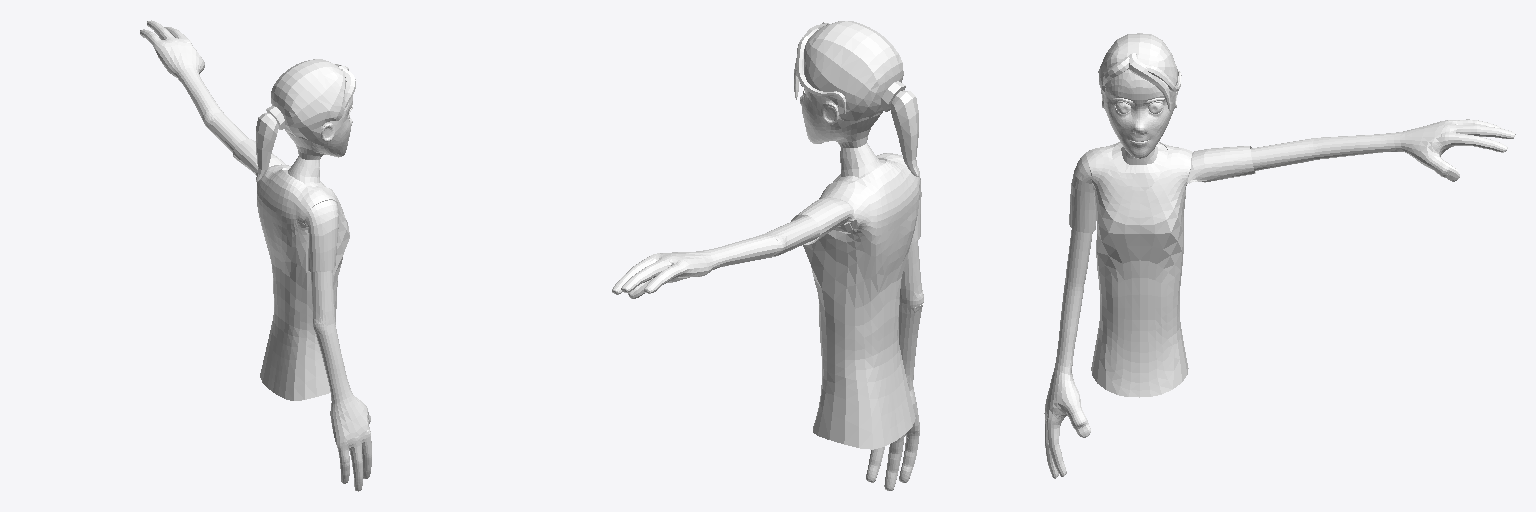
URDF robot description (human_torso):
<?xml version="1.0" ?>
<!-- =================================================================================== -->
<!-- |    This document was autogenerated by xacro from human_torso.xacro              | -->
<!-- |    EDITING THIS FILE BY HAND IS NOT RECOMMENDED                                 | -->
<!-- =================================================================================== -->
<!--
Parameters:
- offsets
    - neck to shoulder
    - shoulder to elbow
    - elbow to wrist

- joint limits (source: https://design.tutsplus.com/articles/human-anatomy-fundamentals-flexibility-and-joint-limitations-vector-25401)
    - shoulder
        - abduction 180
        - adduction -45
        - horizontal flexion 130
        - horizontal extension -45
        - vertical flexion 180
        - vertical extension -60
    - elbow
        - flexion -150
        - extension 0
        - supination 180
        - pronation -90

    - wrist
        - extension 70
        - flexion 90
        - radial 20
        - ulnar 50

-->
<robot name="human_torso" xmlns:xacro="http://www.ros.org/wiki/xacro">
  <material name="white">
    <color rgba="1.0 1.0 1.0 1.0"/>
  </material>
  <link name="base_link">
    <inertial>
      <mass value="0.01"/>
      <origin rpy="0 0 0" xyz="0 0 0"/>
      <inertia ixx="0.001" ixy="0" ixz="0" iyy="0.001" iyz="0" izz="0.001"/>
    </inertial>
  </link>
  <link name="torso_pan">
    <inertial>
      <mass value="0.01"/>
      <origin rpy="0 0 0" xyz="0 0 0"/>
      <inertia ixx="0.001" ixy="0" ixz="0" iyy="0.001" iyz="0" izz="0.001"/>
    </inertial>
  </link>
  <link name="torso">
    <visual>
      <geometry>
        <mesh filename=".//torso.obj"/>
      </geometry>
      <origin rpy="0 0 0" xyz="0 0 0"/>
      <material name="white"/>
    </visual>
    <collision>
      <geometry>
        <box size="0.2 0.22 0.59"/>
      </geometry>
      <origin rpy="0 0 0" xyz="0 0 0.295"/>
    </collision>
    <inertial>
      <mass value="40.0"/>
      <origin rpy="0 0 0" xyz="0 0 0"/>
      <inertia ixx="4.0" ixy="0" ixz="0" iyy="4.0" iyz="0" izz="4.0"/>
    </inertial>
  </link>
  <joint name="torso_pan_joint" type="revolute">
    <axis xyz="0 0 1"/>
    <limit effort="10000.0" lower="-1.22173" upper="1.22173" velocity="1.57"/>
    <origin rpy="0 0 0" xyz="0 0 0"/>
    <parent link="base_link"/>
    <child link="torso_pan"/>
  </joint>
  <joint name="torso_tilt_joint" type="revolute">
    <axis xyz="0 1 0"/>
    <limit effort="10000.0" lower="-0.32173" upper="0.32173" velocity="1.57"/>
    <origin rpy="0 0 0" xyz="0 0 0"/>
    <parent link="torso_pan"/>
    <child link="torso"/>
  </joint>
  <link name="l_shoulder_abduction_adduction">
    <inertial>
      <mass value="0.01"/>
      <origin rpy="0 0 0" xyz="0 0 0"/>
      <inertia ixx="0.001" ixy="0" ixz="0" iyy="0.001" iyz="0" izz="0.001"/>
    </inertial>
  </link>
  <link name="l_shoulder_horizontal_flexion_extension">
    <inertial>
      <mass value="0.01"/>
      <origin rpy="0 0 0" xyz="0 0 0"/>
      <inertia ixx="0.001" ixy="0" ixz="0" iyy="0.001" iyz="0" izz="0.001"/>
    </inertial>
  </link>
  <link name="l_shoulder_vertical_flexion_extension">
    <visual>
      <geometry>
        <mesh filename=".//l_arm.obj"/>
      </geometry>
      <origin rpy="0 0 0" xyz="0 0 0"/>
      <material name="white"/>
    </visual>
    <collision>
      <geometry>
        <box size="0.1 0.07 0.33"/>
      </geometry>
      <origin rpy="0.1 0 0" xyz="0 0.015 -0.135"/>
    </collision>
    <inertial>
      <mass value="3.5"/>
      <origin rpy="0 0 0" xyz="0 0 0"/>
      <inertia ixx="0.3" ixy="0" ixz="0" iyy="0.3" iyz="0" izz="0.3"/>
    </inertial>
  </link>
  <link name="l_elbow_flexion_extension">
    <inertial>
      <mass value="0.01"/>
      <origin rpy="0 0 0" xyz="0 0 0"/>
      <inertia ixx="0.001" ixy="0" ixz="0" iyy="0.001" iyz="0" izz="0.001"/>
    </inertial>
  </link>
  <link name="l_elbow_pronation_supination">
    <visual>
      <geometry>
        <mesh filename=".//l_forearm.obj"/>
      </geometry>
      <origin rpy="0 0 0" xyz="0 0 0"/>
      <material name="white"/>
    </visual>
    <collision>
      <geometry>
        <box size="0.07 0.07 0.2"/>
      </geometry>
      <origin rpy="0.2 -0.2 0" xyz="0.02 0.015 -0.1"/>
    </collision>
    <inertial>
      <mass value="2.5"/>
      <origin rpy="0 0 0" xyz="0 0 0"/>
      <inertia ixx="0.2" ixy="0" ixz="0" iyy="0.2" iyz="0" izz="0.2"/>
    </inertial>
  </link>
  <link name="l_wrist_flexion_extension">
    <inertial>
      <mass value="0.01"/>
      <origin rpy="0 0 0" xyz="0 0 0"/>
      <inertia ixx="0.001" ixy="0" ixz="0" iyy="0.001" iyz="0" izz="0.001"/>
    </inertial>
  </link>
  <link name="l_wrist_radial_ulnar">
    <visual>
      <geometry>
        <mesh filename=".//l_hand.obj"/>
      </geometry>
      <origin rpy="0 0 0" xyz="0 0 0"/>
      <material name="white"/>
    </visual>
    <collision>
      <geometry>
        <mesh filename=".//l_hand.obj"/>
        <!--<box size="${palm_width} ${palm_depth} ${palm_height}"/>-->
      </geometry>
      <!--origin xyz="0.025 ${reflect*0.0} ${-palm_height/2 + 0.02}" rpy="0 0 0"/-->
      <origin rpy="0 0 0" xyz="0 0 0"/>
    </collision>
    <inertial>
      <mass value="1.5"/>
      <origin rpy="0 0 0" xyz="0 0 0"/>
      <inertia ixx="0.1" ixy="0" ixz="0" iyy="0.1" iyz="0" izz="0.1"/>
    </inertial>
  </link>
  <joint name="l_shoulder_abduction_adduction_joint" type="revolute">
    <axis xyz="1 0 0"/>
    <limit effort="1000.0" lower="0.1" upper="3.1415" velocity="2.5"/>
    <origin rpy="0 0 0" xyz=" 0 0.10988 0.4938"/>
    <parent link="torso"/>
    <child link="l_shoulder_abduction_adduction"/>
  </joint>
  <joint name="l_shoulder_horizontal_flexion_extension_joint" type="revolute">
    <axis xyz="0 0 -1"/>
    <limit effort="1000.0" lower="-0.78539" upper="2.26892" velocity="2.5"/>
    <origin rpy="0 0 0" xyz="0 0 0"/>
    <parent link="l_shoulder_abduction_adduction"/>
    <child link="l_shoulder_horizontal_flexion_extension"/>
  </joint>
  <joint name="l_shoulder_vertical_flexion_extension_joint" type="revolute">
    <axis xyz="0 -1 0"/>
    <limit effort="1000.0" lower="-1.04719" upper="3.1415" velocity="2.5"/>
    <origin rpy="0 0 0" xyz="0 0 0"/>
    <parent link="l_shoulder_horizontal_flexion_extension"/>
    <child link="l_shoulder_vertical_flexion_extension"/>
  </joint>
  <joint name="l_elbow_flexion_extension_joint" type="revolute">
    <axis xyz="0 1 0"/>
    <limit effort="1000.0" lower="-2.61799" upper="0" velocity="2.5"/>
    <origin rpy="0 0 0" xyz="-0.01223 0.03506 -0.283379"/>
    <parent link="l_shoulder_vertical_flexion_extension"/>
    <child link="l_elbow_flexion_extension"/>
  </joint>
  <joint name="l_elbow_pronation_supination_joint" type="revolute">
    <axis xyz="0 0 -1"/>
    <limit effort="1000.0" lower="-3.1415" upper="1.57079" velocity="2.5"/>
    <origin rpy="0 0 0" xyz="0 0 0"/>
    <parent link="l_elbow_flexion_extension"/>
    <child link="l_elbow_pronation_supination"/>
  </joint>
  <joint name="l_wrist_flexion_extension_joint" type="revolute">
    <axis xyz="0 -1 0"/>
    <limit effort="1000.0" lower="-1.57079" upper="1.22173" velocity="2.5"/>
    <origin rpy="0 0 0" xyz="0.03606 0.02363 -0.19094"/>
    <parent link="l_elbow_pronation_supination"/>
    <child link="l_wrist_flexion_extension"/>
  </joint>
  <joint name="l_wrist_radial_ulnar_joint" type="revolute">
    <axis xyz="1 0 0"/>
    <limit effort="1000.0" lower="-0.34906" upper="0.87266" velocity="2.5"/>
    <origin rpy="0 0 0" xyz="0 0 0"/>
    <parent link="l_wrist_flexion_extension"/>
    <child link="l_wrist_radial_ulnar"/>
  </joint>
  <link name="l_tip">
    <visual>
      <geometry>
        <box size="0.001 0.01 0.001"/>
      </geometry>
      <origin rpy="0 0 0" xyz="0 0 0"/>
      <material name="white"/>
    </visual>
    <collision>
      <geometry>
        <box size="0.001 0.01 0.001"/>
      </geometry>
      <origin rpy="0 0 0" xyz="0 0 0"/>
    </collision>
    <inertial>
      <mass value="0.001"/>
      <origin rpy="0 0 0" xyz="0 0 0"/>
      <inertia ixx="0.0001" ixy="0" ixz="0" iyy="0.0001" iyz="0" izz="0.0001"/>
    </inertial>
  </link>
  <joint name="l_tip_joint" type="fixed">
    <origin rpy="0 3.1415 0" xyz="0.03 0.015 -0.23"/>
    <parent link="l_wrist_radial_ulnar"/>
    <child link="l_tip"/>
  </joint>
  <link name="r_shoulder_abduction_adduction">
    <inertial>
      <mass value="0.01"/>
      <origin rpy="0 0 0" xyz="0 0 0"/>
      <inertia ixx="0.001" ixy="0" ixz="0" iyy="0.001" iyz="0" izz="0.001"/>
    </inertial>
  </link>
  <link name="r_shoulder_horizontal_flexion_extension">
    <inertial>
      <mass value="0.01"/>
      <origin rpy="0 0 0" xyz="0 0 0"/>
      <inertia ixx="0.001" ixy="0" ixz="0" iyy="0.001" iyz="0" izz="0.001"/>
    </inertial>
  </link>
  <link name="r_shoulder_vertical_flexion_extension">
    <visual>
      <geometry>
        <mesh filename=".//r_arm.obj"/>
      </geometry>
      <origin rpy="0 0 0" xyz="0 0 0"/>
      <material name="white"/>
    </visual>
    <collision>
      <geometry>
        <box size="0.1 0.07 0.33"/>
      </geometry>
      <origin rpy="-0.1 0 0" xyz="0 -0.015 -0.135"/>
    </collision>
    <inertial>
      <mass value="3.5"/>
      <origin rpy="0 0 0" xyz="0 0 0"/>
      <inertia ixx="0.3" ixy="0" ixz="0" iyy="0.3" iyz="0" izz="0.3"/>
    </inertial>
  </link>
  <link name="r_elbow_flexion_extension">
    <inertial>
      <mass value="0.01"/>
      <origin rpy="0 0 0" xyz="0 0 0"/>
      <inertia ixx="0.001" ixy="0" ixz="0" iyy="0.001" iyz="0" izz="0.001"/>
    </inertial>
  </link>
  <link name="r_elbow_pronation_supination">
    <visual>
      <geometry>
        <mesh filename=".//r_forearm.obj"/>
      </geometry>
      <origin rpy="0 0 0" xyz="0 0 0"/>
      <material name="white"/>
    </visual>
    <collision>
      <geometry>
        <box size="0.07 0.07 0.2"/>
      </geometry>
      <origin rpy="-0.2 -0.2 0" xyz="0.02 -0.015 -0.1"/>
    </collision>
    <inertial>
      <mass value="2.5"/>
      <origin rpy="0 0 0" xyz="0 0 0"/>
      <inertia ixx="0.2" ixy="0" ixz="0" iyy="0.2" iyz="0" izz="0.2"/>
    </inertial>
  </link>
  <link name="r_wrist_flexion_extension">
    <inertial>
      <mass value="0.01"/>
      <origin rpy="0 0 0" xyz="0 0 0"/>
      <inertia ixx="0.001" ixy="0" ixz="0" iyy="0.001" iyz="0" izz="0.001"/>
    </inertial>
  </link>
  <link name="r_wrist_radial_ulnar">
    <visual>
      <geometry>
        <mesh filename=".//r_hand.obj"/>
      </geometry>
      <origin rpy="0 0 0" xyz="0 0 0"/>
      <material name="white"/>
    </visual>
    <collision>
      <geometry>
        <mesh filename=".//r_hand.obj"/>
        <!--<box size="${palm_width} ${palm_depth} ${palm_height}"/>-->
      </geometry>
      <!--origin xyz="0.025 ${reflect*0.0} ${-palm_height/2 + 0.02}" rpy="0 0 0"/-->
      <origin rpy="0 0 0" xyz="0 0 0"/>
    </collision>
    <inertial>
      <mass value="1.5"/>
      <origin rpy="0 0 0" xyz="0 0 0"/>
      <inertia ixx="0.1" ixy="0" ixz="0" iyy="0.1" iyz="0" izz="0.1"/>
    </inertial>
  </link>
  <joint name="r_shoulder_abduction_adduction_joint" type="fixed">
    <axis xyz="-1 0 0"/>
    <limit effort="1000.0" lower="0.1" upper="3.1415" velocity="2.5"/>
    <origin rpy="0 0 0" xyz=" -0.00304 -0.10786 0.49489"/>
    <parent link="torso"/>
    <child link="r_shoulder_abduction_adduction"/>
  </joint>
  <joint name="r_shoulder_horizontal_flexion_extension_joint" type="fixed">
    <axis xyz="0 0 1"/>
    <limit effort="1000.0" lower="-0.78539" upper="2.26892" velocity="2.5"/>
    <origin rpy="0 0 0" xyz="0 0 0"/>
    <parent link="r_shoulder_abduction_adduction"/>
    <child link="r_shoulder_horizontal_flexion_extension"/>
  </joint>
  <joint name="r_shoulder_vertical_flexion_extension_joint" type="fixed">
    <axis xyz="0 -1 0"/>
    <limit effort="1000.0" lower="-1.04719" upper="3.1415" velocity="2.5"/>
    <origin rpy="0 0 0" xyz="0 0 0"/>
    <parent link="r_shoulder_horizontal_flexion_extension"/>
    <child link="r_shoulder_vertical_flexion_extension"/>
  </joint>
  <joint name="r_elbow_flexion_extension_joint" type="fixed">
    <axis xyz="0 1 0"/>
    <limit effort="1000.0" lower="-2.61799" upper="0" velocity="2.5"/>
    <origin rpy="0 0 0" xyz="-0.01223 -0.03506 -0.283379"/>
    <parent link="r_shoulder_vertical_flexion_extension"/>
    <child link="r_elbow_flexion_extension"/>
  </joint>
  <joint name="r_elbow_pronation_supination_joint" type="fixed">
    <axis xyz="0 0 -1"/>
    <limit effort="1000.0" lower="-3.1415" upper="1.57079" velocity="2.5"/>
    <origin rpy="0 0 0" xyz="0 0 0"/>
    <parent link="r_elbow_flexion_extension"/>
    <child link="r_elbow_pronation_supination"/>
  </joint>
  <joint name="r_wrist_flexion_extension_joint" type="fixed">
    <axis xyz="0 -1 0"/>
    <limit effort="1000.0" lower="-1.57079" upper="1.22173" velocity="2.5"/>
    <origin rpy="0 0 0" xyz="0.03606 -0.02363 -0.19094"/>
    <parent link="r_elbow_pronation_supination"/>
    <child link="r_wrist_flexion_extension"/>
  </joint>
  <joint name="r_wrist_radial_ulnar_joint" type="fixed">
    <axis xyz="-1 0 0"/>
    <limit effort="1000.0" lower="-0.34906" upper="0.87266" velocity="2.5"/>
    <origin rpy="0 0 0" xyz="0 0 0"/>
    <parent link="r_wrist_flexion_extension"/>
    <child link="r_wrist_radial_ulnar"/>
  </joint>
  <link name="r_tip">
    <visual>
      <geometry>
        <box size="0.001 0.01 0.001"/>
      </geometry>
      <origin rpy="0 0 0" xyz="0 0 0"/>
      <material name="white"/>
    </visual>
    <collision>
      <geometry>
        <box size="0.001 0.01 0.001"/>
      </geometry>
      <origin rpy="0 0 0" xyz="0 0 0"/>
    </collision>
    <inertial>
      <mass value="0.001"/>
      <origin rpy="0 0 0" xyz="0 0 0"/>
      <inertia ixx="0.0001" ixy="0" ixz="0" iyy="0.0001" iyz="0" izz="0.0001"/>
    </inertial>
  </link>
  <joint name="r_tip_joint" type="fixed">
    <origin rpy="0 -3.1415 0" xyz="0.03 -0.015 -0.23"/>
    <parent link="r_wrist_radial_ulnar"/>
    <child link="r_tip"/>
  </joint>
  <link name="head_head_roll">
    <visual>
      <geometry>
        <mesh filename=".//head.obj"/>
      </geometry>
      <origin rpy="0 0 0" xyz="0 0 0"/>
      <material name="white"/>
    </visual>
    <collision>
      <geometry>
        <box size="0.32 0.27 0.4"/>
      </geometry>
      <origin rpy="0 0 0" xyz="0.03 0 0.18"/>
    </collision>
    <inertial>
      <mass value="5.0"/>
      <origin rpy="0 0 0" xyz="0 0 0"/>
      <inertia ixx="0.5" ixy="0" ixz="0" iyy="0.5" iyz="0" izz="0.5"/>
    </inertial>
  </link>
  <link name="head_head_tilt">
    <inertial>
      <mass value="0.01"/>
      <origin rpy="0 0 0" xyz="0 0 0"/>
      <inertia ixx="0.001" ixy="0" ixz="0" iyy="0.001" iyz="0" izz="0.001"/>
    </inertial>
  </link>
  <link name="head_head_pan">
    <inertial>
      <mass value="0.01"/>
      <origin rpy="0 0 0" xyz="0 0 0"/>
      <inertia ixx="0.001" ixy="0" ixz="0" iyy="0.001" iyz="0" izz="0.001"/>
    </inertial>
  </link>
  <joint name="head_pan_joint" type="fixed">
    <axis xyz="0 0 1"/>
    <limit effort="1000.0" lower="-1.22173" upper="1.22173" velocity="0.5"/>
    <origin rpy="0 0 0" xyz=" 0.0255 0 0.59"/>
    <parent link="torso"/>
    <child link="head_head_pan"/>
  </joint>
  <joint name="head_tilt_joint" type="fixed">
    <axis xyz="0 1 0"/>
    <limit effort="1000.0" lower="-1.57079" upper="0.95993" velocity="0.5"/>
    <origin rpy="0 0 0" xyz="0 0 0"/>
    <parent link="head_head_pan"/>
    <child link="head_head_tilt"/>
  </joint>
  <joint name="head_roll_joint" type="fixed">
    <axis xyz="1 0 0"/>
    <limit effort="1000.0" lower="-0.61086" upper="0.61086" velocity="0.5"/>
    <origin rpy="0 0 0" xyz="0 0 0"/>
    <parent link="head_head_tilt"/>
    <child link="head_head_roll"/>
  </joint>
</robot>

--- Facts derived from the render (not from the file) ---
Views: 3 orthographic renders of the robot side by side, from view 1: azimuth 30°, elevation 25°; view 2: azimuth 150°, elevation 25°; view 3: azimuth 270°, elevation 25°.
Robot: human_torso — 22 links, 21 joints (9 revolute, 12 fixed); root link base_link; default pose: all joints at 0 but 1 set to mid-range because 0 is outside their limits (l_shoulder_abduction_adduction_joint = 1.62).
Links seen in each view (by area): view 1: torso, head_head_roll, r_shoulder_vertical_flexion_extension, r_wrist_radial_ulnar, l_wrist_radial_ulnar, l_shoulder_vertical_flexion_extension, r_elbow_pronation_supination, l_elbow_pronation_supination; view 2: torso, head_head_roll, l_wrist_radial_ulnar, l_shoulder_vertical_flexion_extension, r_wrist_radial_ulnar, l_elbow_pronation_supination, r_shoulder_vertical_flexion_extension, r_elbow_pronation_supination; view 3: torso, head_head_roll, l_shoulder_vertical_flexion_extension, l_wrist_radial_ulnar, r_shoulder_vertical_flexion_extension, r_wrist_radial_ulnar, l_elbow_pronation_supination, r_elbow_pronation_supination.
Boxes of the visible links, x1,y1,x2,y2 form: torso: [257, 156, 349, 400]; head_head_roll: [256, 59, 355, 181]; r_shoulder_vertical_flexion_extension: [305, 200, 338, 330]; r_wrist_radial_ulnar: [330, 395, 371, 491]; l_wrist_radial_ulnar: [140, 20, 204, 77]; l_shoulder_vertical_flexion_extension: [203, 110, 288, 175]; r_elbow_pronation_supination: [313, 326, 352, 403]; l_elbow_pronation_supination: [176, 68, 221, 119]; torso: [803, 143, 920, 449]; head_head_roll: [794, 21, 918, 176]; l_wrist_radial_ulnar: [612, 251, 713, 298]; l_shoulder_vertical_flexion_extension: [762, 197, 855, 255]; r_wrist_radial_ulnar: [866, 386, 919, 490]; l_elbow_pronation_supination: [703, 235, 781, 269]; r_shoulder_vertical_flexion_extension: [878, 158, 923, 308]; r_elbow_pronation_supination: [899, 303, 923, 390]; torso: [1085, 142, 1192, 397]; head_head_roll: [1098, 33, 1181, 158]; l_shoulder_vertical_flexion_extension: [1187, 138, 1319, 183]; l_wrist_radial_ulnar: [1400, 119, 1515, 181]; r_shoulder_vertical_flexion_extension: [1065, 154, 1096, 290]; r_wrist_radial_ulnar: [1044, 368, 1090, 478]; l_elbow_pronation_supination: [1318, 132, 1403, 158]; r_elbow_pronation_supination: [1055, 285, 1083, 374].
Bounding box of the posed robot: 0.2633 × 1.03 × 1.06 m (x, y, z).
Meshes: 8 distinct files referenced, 8 mesh visuals loaded (8 OBJ).